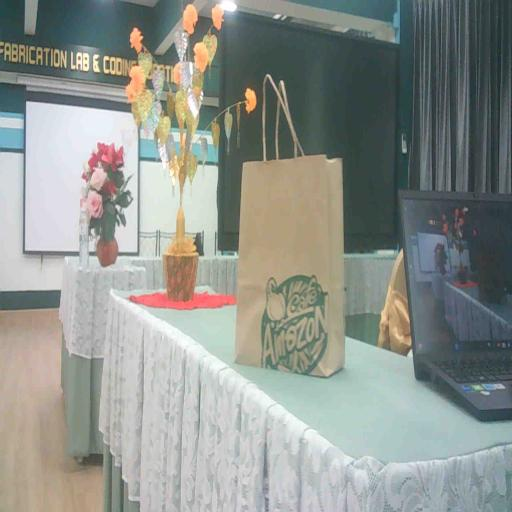bag: (228, 140, 350, 380)
